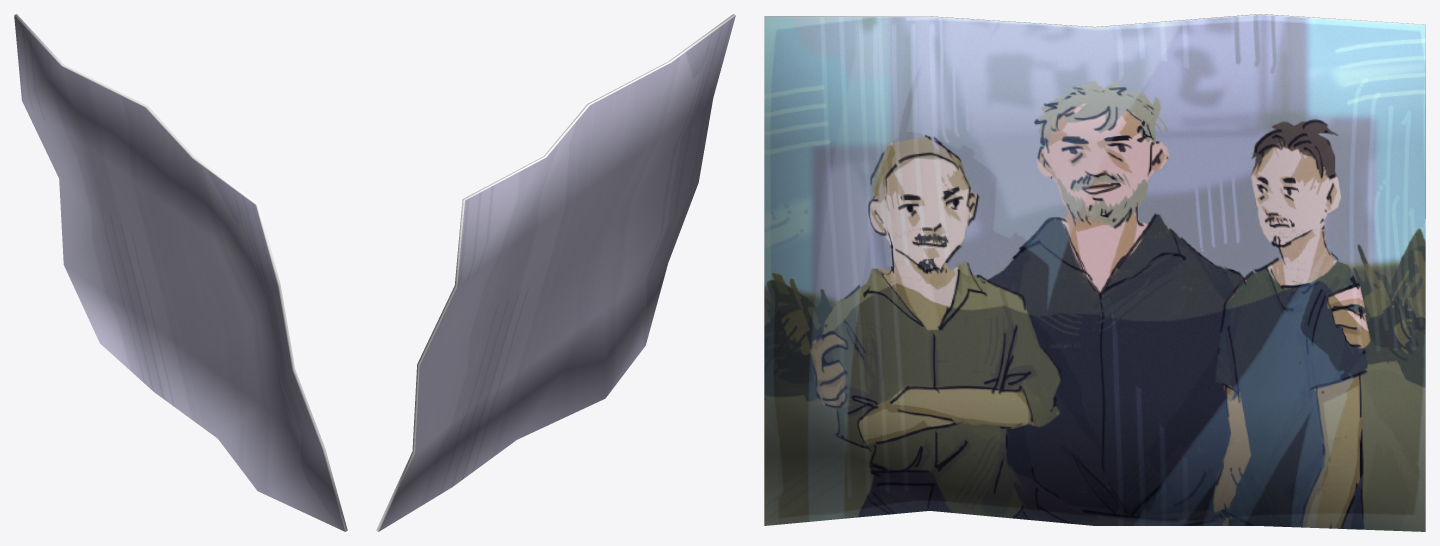
Rendered from BrotherPhoto.fbx.
3 views of the same model, side by side, from view 1: azimuth 30°, elevation 25°; view 2: azimuth 150°, elevation 25°; view 3: azimuth 270°, elevation 25° (orthographic). The views are drawn at different scales.
Visible parts, largest first — view 1: Plane.003; view 2: Plane.003; view 3: Plane.003.
Part boxes in pixels (box(x1,y1,x2,y2)): Plane.003: box(14, 14, 347, 531); Plane.003: box(376, 14, 735, 531); Plane.003: box(764, 14, 1425, 531).
Bounding box in the file's own units: 36.1 × 115 × 152.
Materials: 1 (1 with a texture image).
